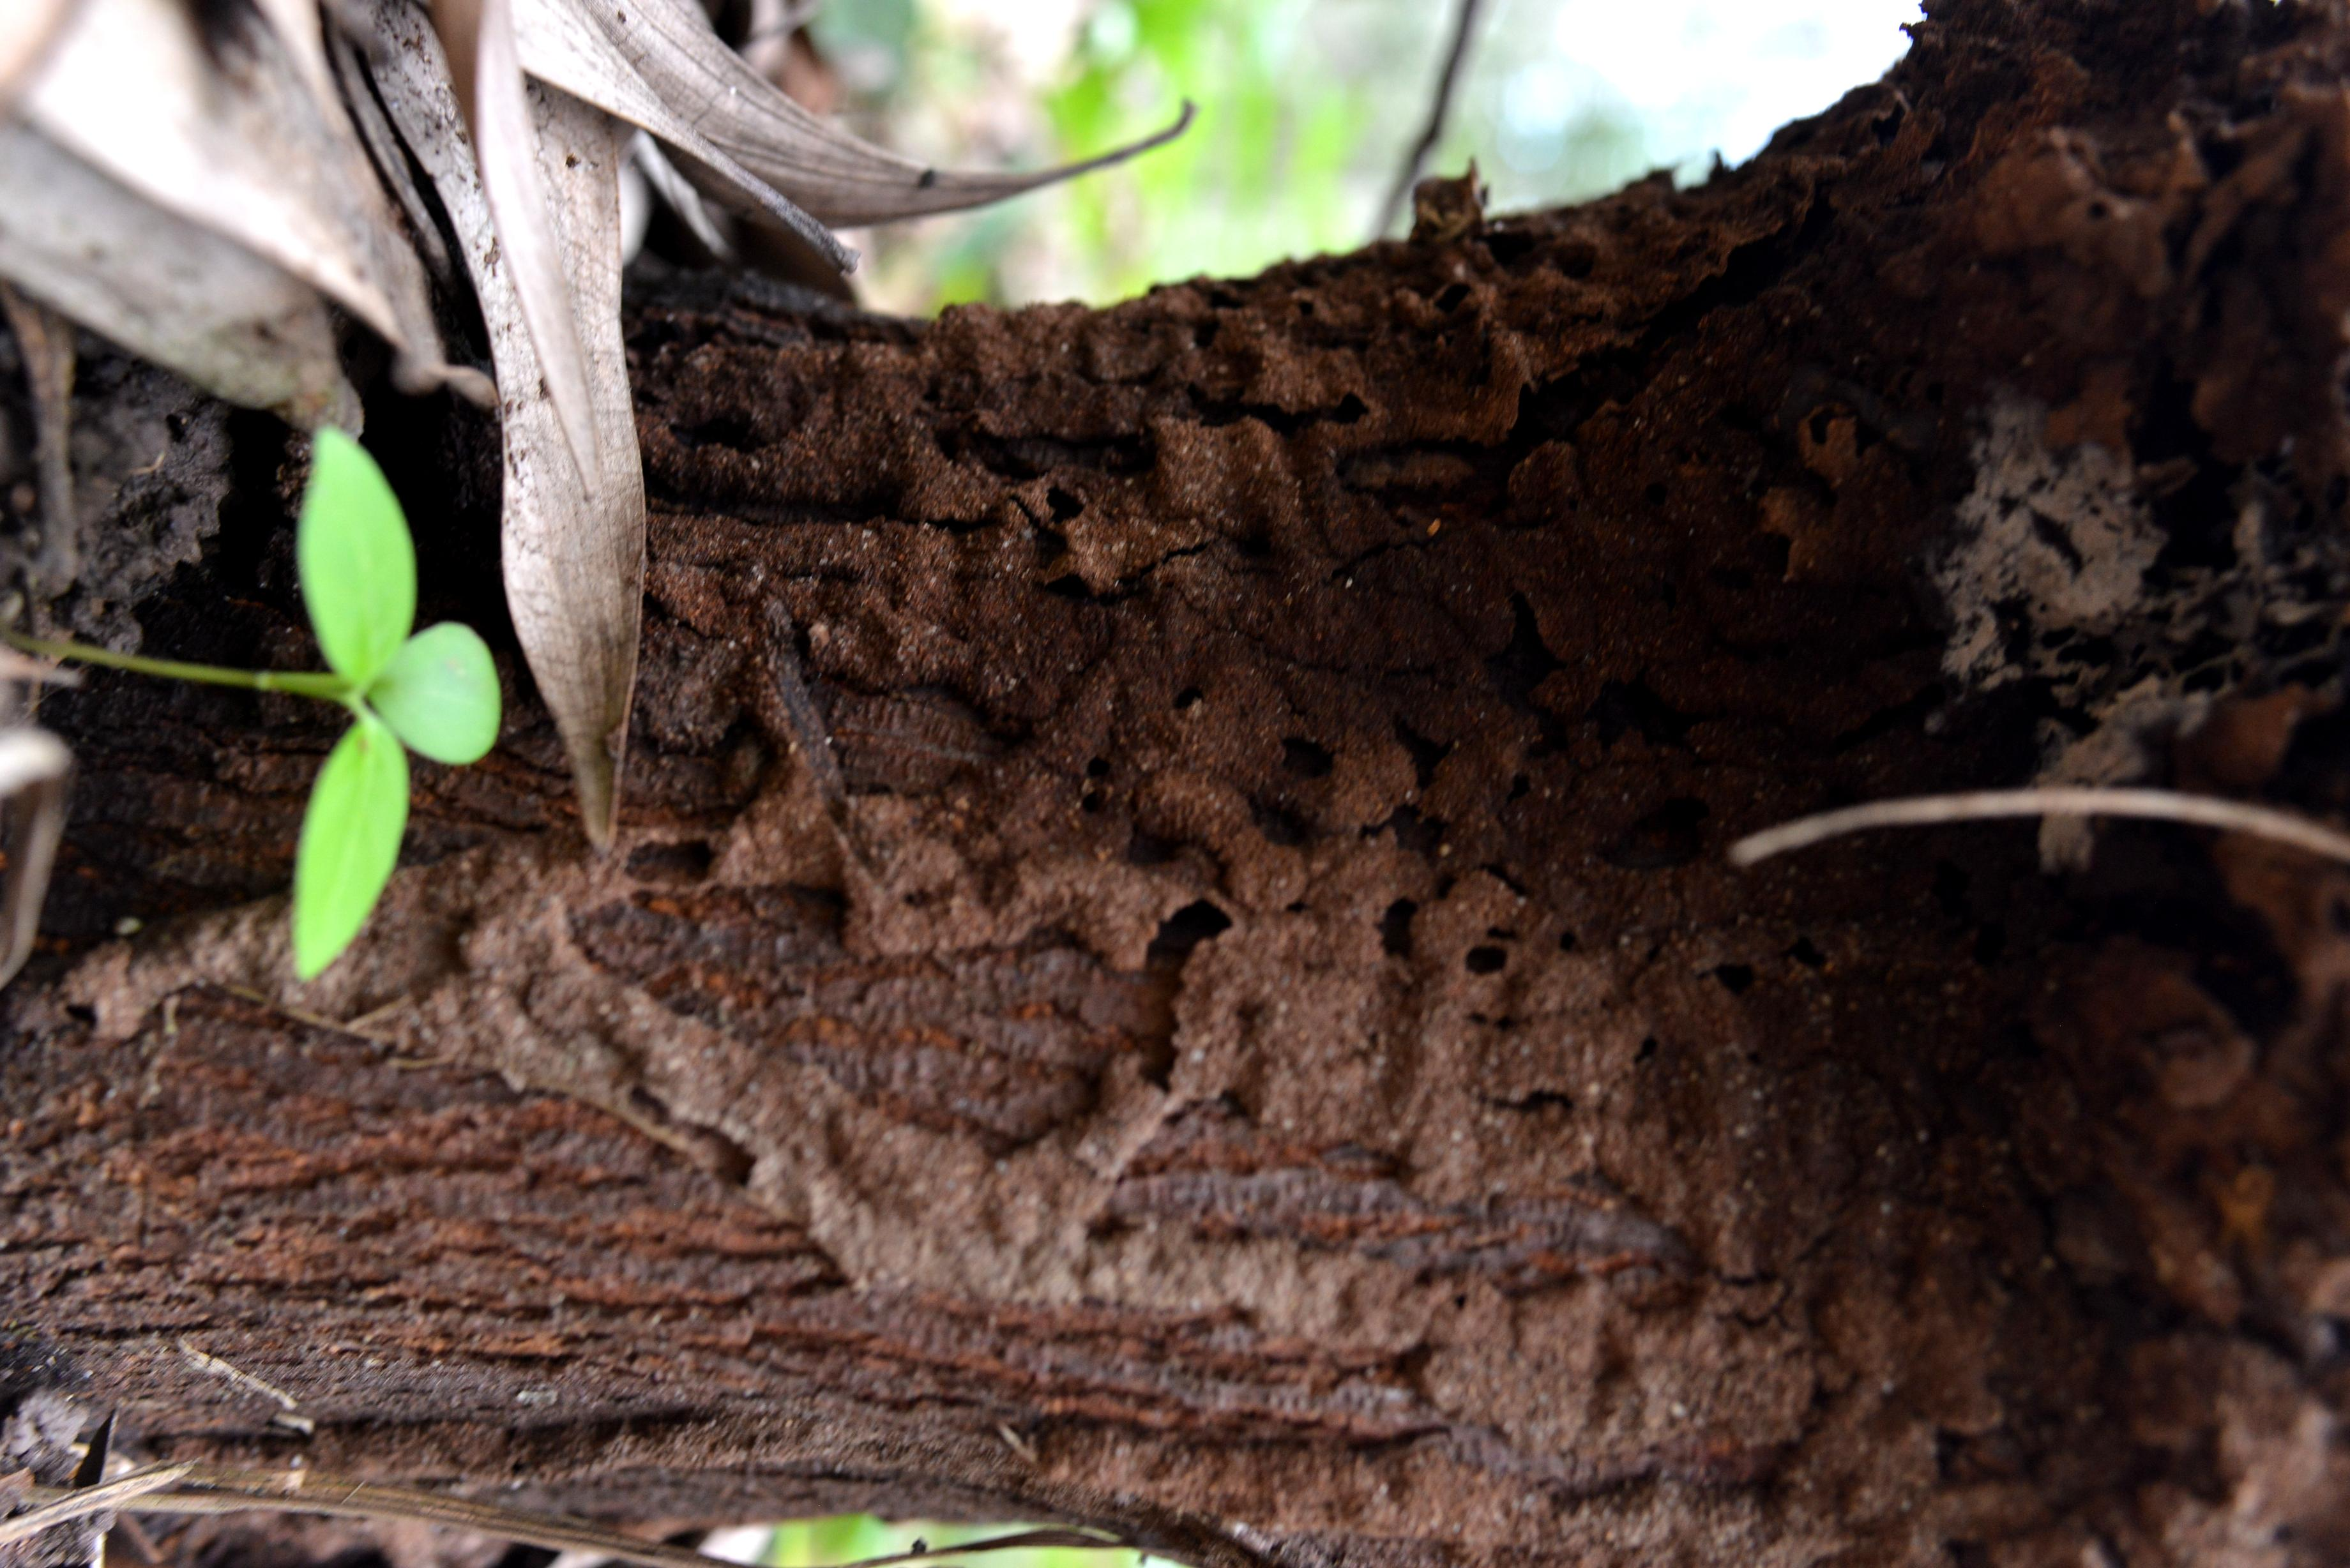Termite - Nest: (0, 749, 2343, 1568), (546, 138, 1771, 747)
